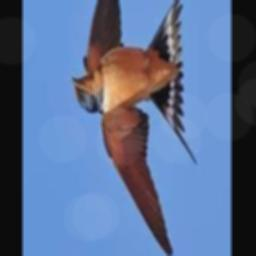Swallow: (68, 0, 196, 256)
